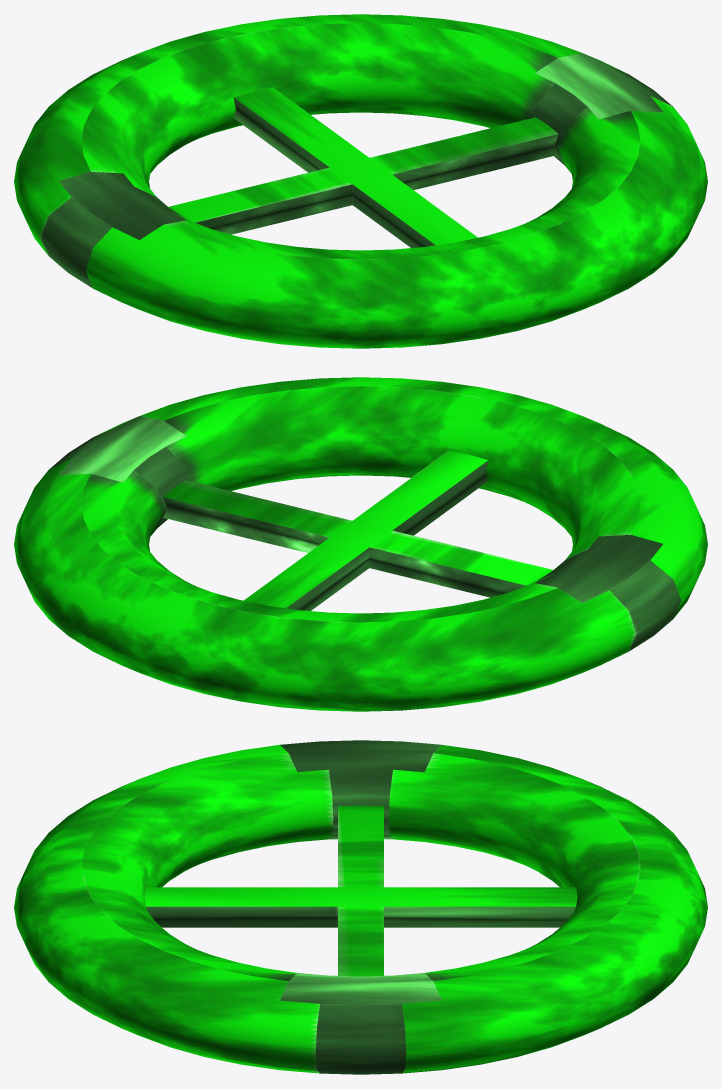
The model's file is vrc_valve.dae.
3 renders of one model, top to bottom at view 1: azimuth 30°, elevation 25°; view 2: azimuth 150°, elevation 25°; view 3: azimuth 270°, elevation 25°, orthographic.
Parts seen in each view (by area): view 1: Cube_001; view 2: Cube_001; view 3: Cube_001.
Boxes of the visible parts, bbox=[...] form: Cube_001: bbox=[14, 14, 707, 348]; Cube_001: bbox=[14, 377, 707, 711]; Cube_001: bbox=[14, 740, 707, 1074].
Bounding box in the file's own units: 0.3021 × 0.3021 × 0.0387.
1 material, 1 textured.
